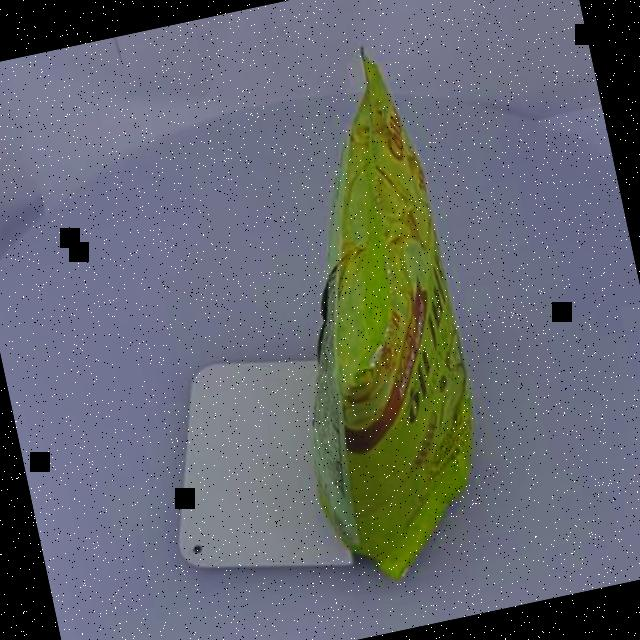snack_bag: (220, 26, 523, 596)
